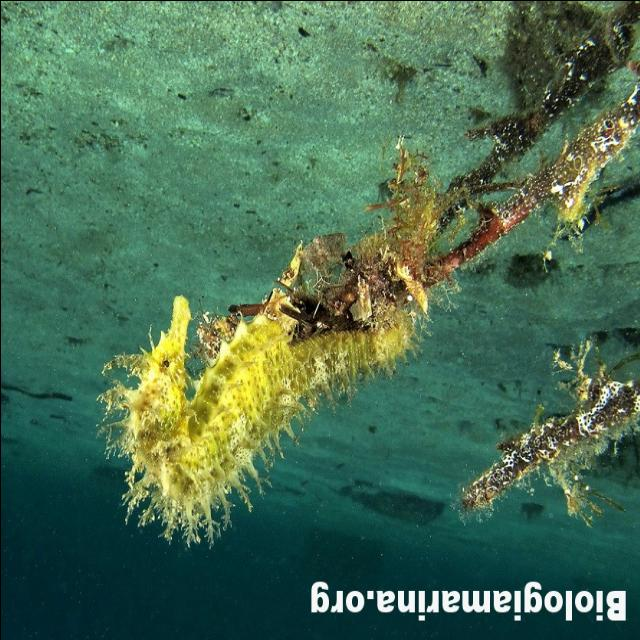Guttu: (119, 288, 194, 490)
